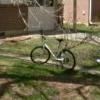Bicycle: (27, 25, 81, 76)
